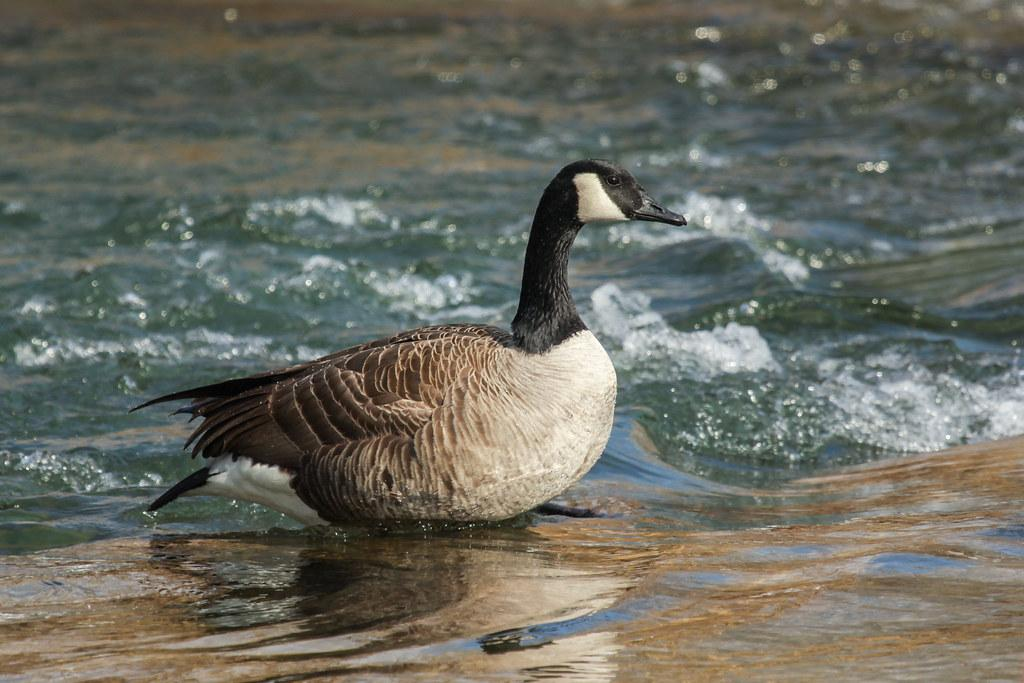Canadian-Goose: (160, 157, 687, 524)
